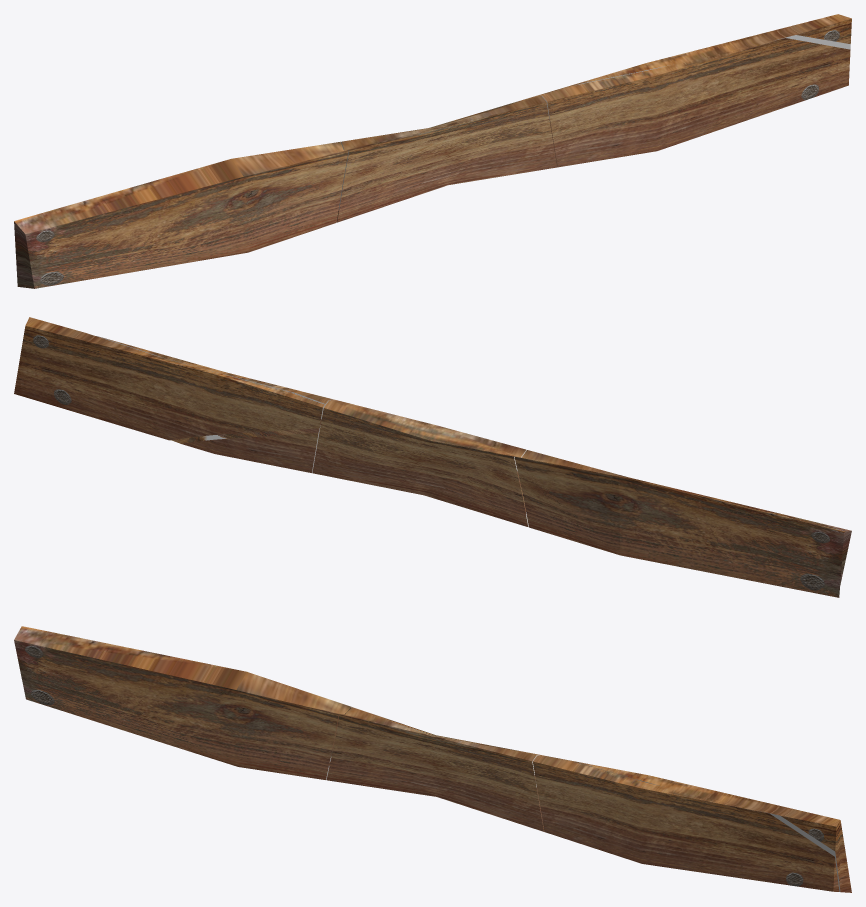
File: SM_BoardBroken.fbx
The picture shows the model from 3 angles, top to bottom: view 1: azimuth 30°, elevation 25°; view 2: azimuth 150°, elevation 25°; view 3: azimuth 330°, elevation 25°; orthographic projection.
Visible parts, largest first — view 1: Cube.001_cell.001, Cube.001_cell.003, Cube.001_cell, Cube.001_cell.002; view 2: Cube.001_cell.001, Cube.001_cell.002, Cube.001_cell, Cube.001_cell.003; view 3: Cube.001_cell.001, Cube.001_cell.003, Cube.001_cell, Cube.001_cell.002.
Part boxes in pixels (x1,y1,x2,y2): Cube.001_cell.001: (14,141,348,288); Cube.001_cell.003: (540,38,850,167); Cube.001_cell: (336,95,557,222); Cube.001_cell.002: (538,14,851,95); Cube.001_cell.001: (514,450,851,597); Cube.001_cell.002: (14,317,324,440); Cube.001_cell: (312,399,528,526); Cube.001_cell.003: (96,336,332,472); Cube.001_cell.001: (14,626,351,779); Cube.001_cell.003: (532,755,839,891); Cube.001_cell: (326,707,544,831); Cube.001_cell.002: (541,755,851,892).
Size of the model in its own units: 244 by 24.48 by 7.52.
